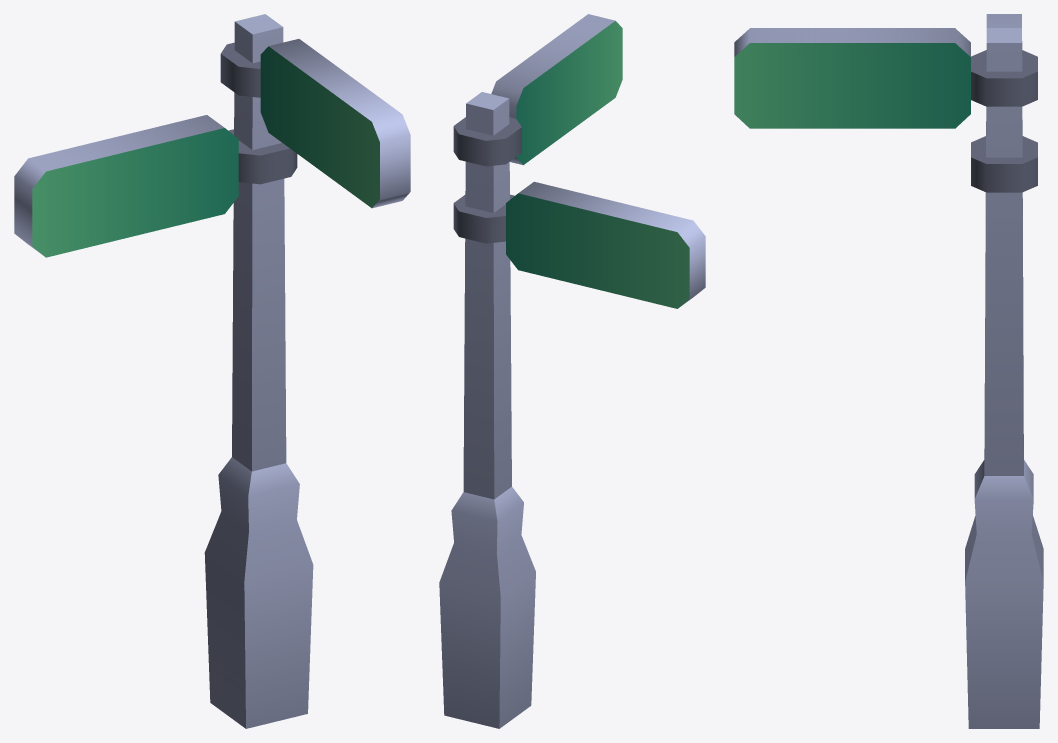
The model's file is road-sign-street.glb.
The picture shows the model from 3 angles, left to right: view 1: azimuth 30°, elevation 25°; view 2: azimuth 150°, elevation 25°; view 3: azimuth 270°, elevation 25°; orthographic projection. The views are drawn at different scales.
Parts seen in each view (by area): view 1: road-sign-street; view 2: road-sign-street; view 3: road-sign-street.
Part boxes in pixels (x1,y1,x2,y2): road-sign-street: [14, 14, 410, 728]; road-sign-street: [439, 14, 705, 728]; road-sign-street: [734, 14, 1043, 728].
Bounding box in the file's own units: 0.1963 × 0.475 × 0.1963.
Materials: 1 (1 with a texture image).
